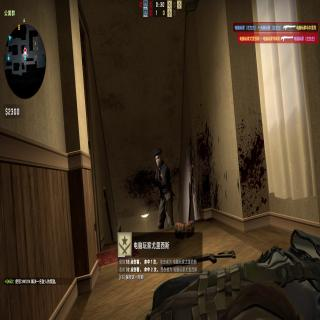T-Body: (150, 148, 173, 227)
T-Head: (154, 148, 162, 166)
